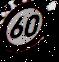Speed Limit -60-: (0, 0, 55, 57)
